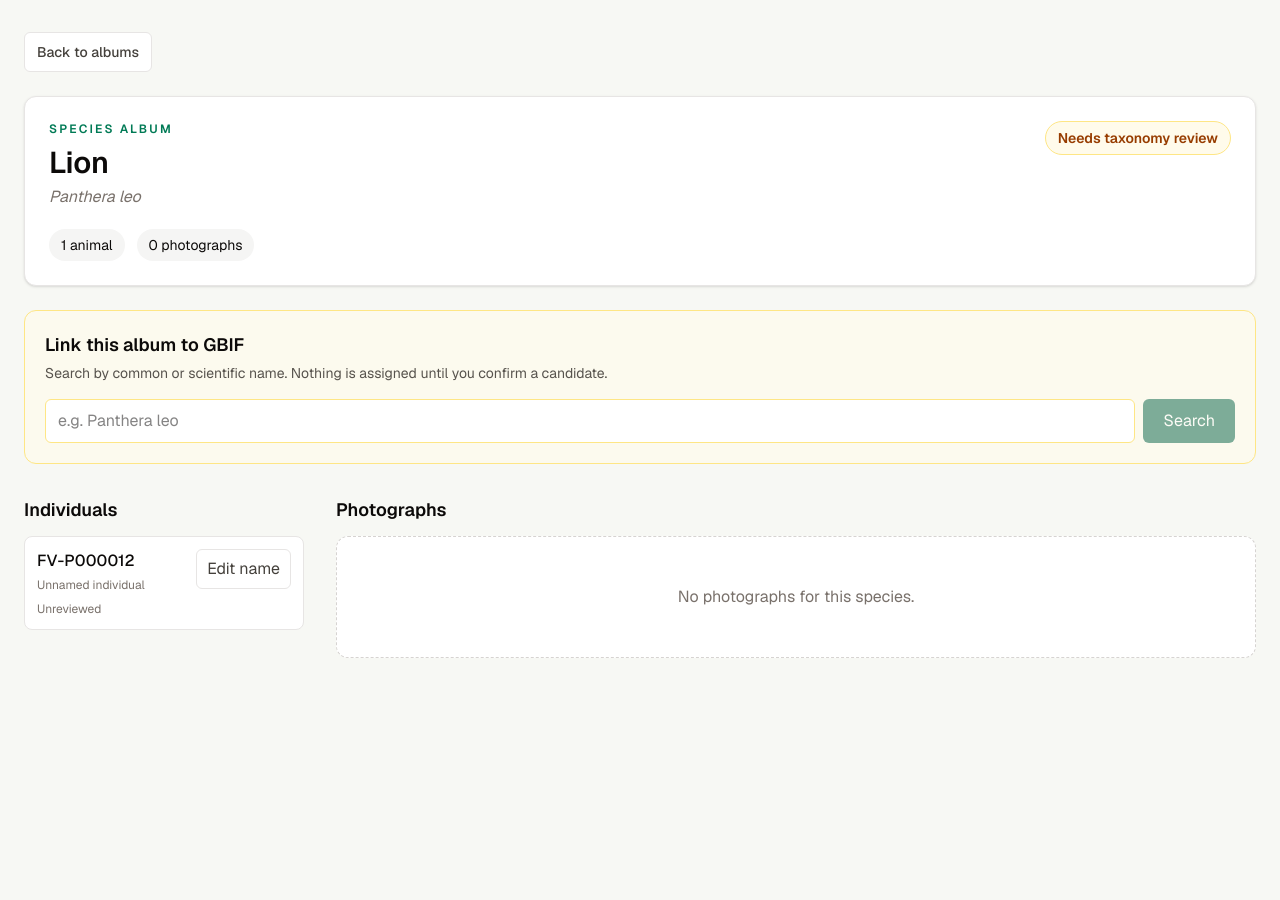
updates the animal name in the album without reloading album state
The width and height of the screenshot is (1280, 900).
Click the button with aria-label "Edit name for FV-P000012": [244, 569] box [196,549,291,589]
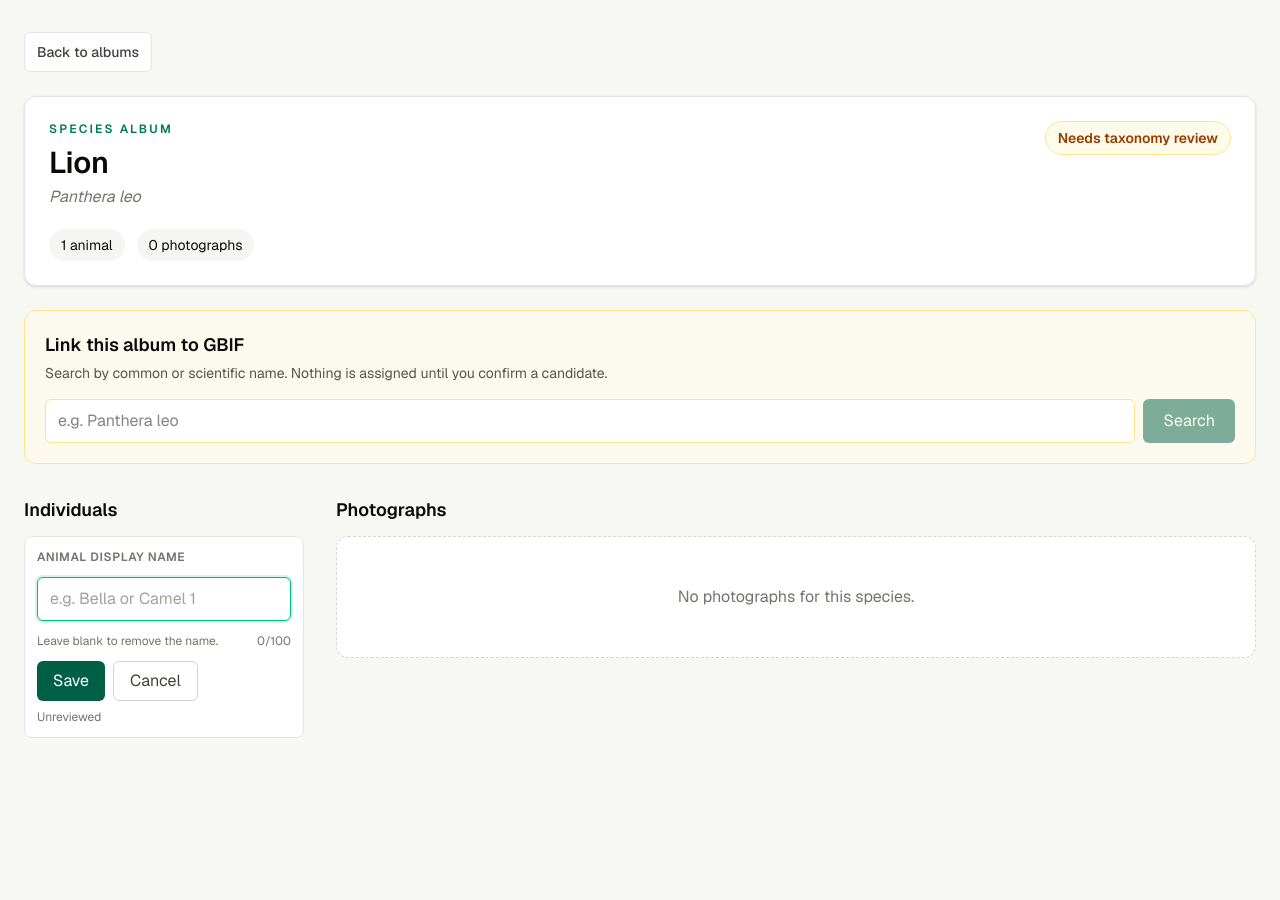
In the field labelled "Animal display name": [164, 599] box [37,577,291,621], type "Bella"
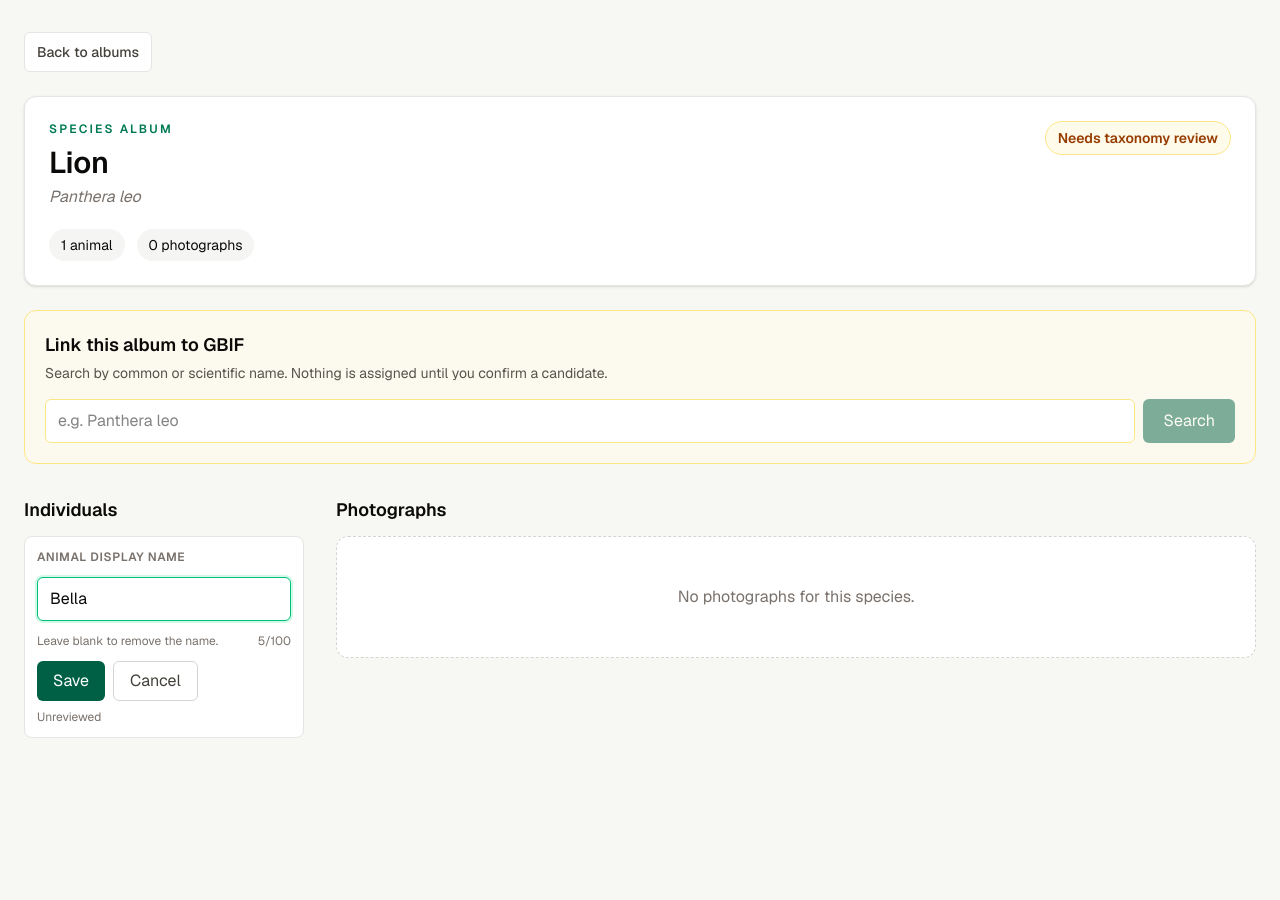
Click the button "Save": [71, 681] box [37,661,105,701]
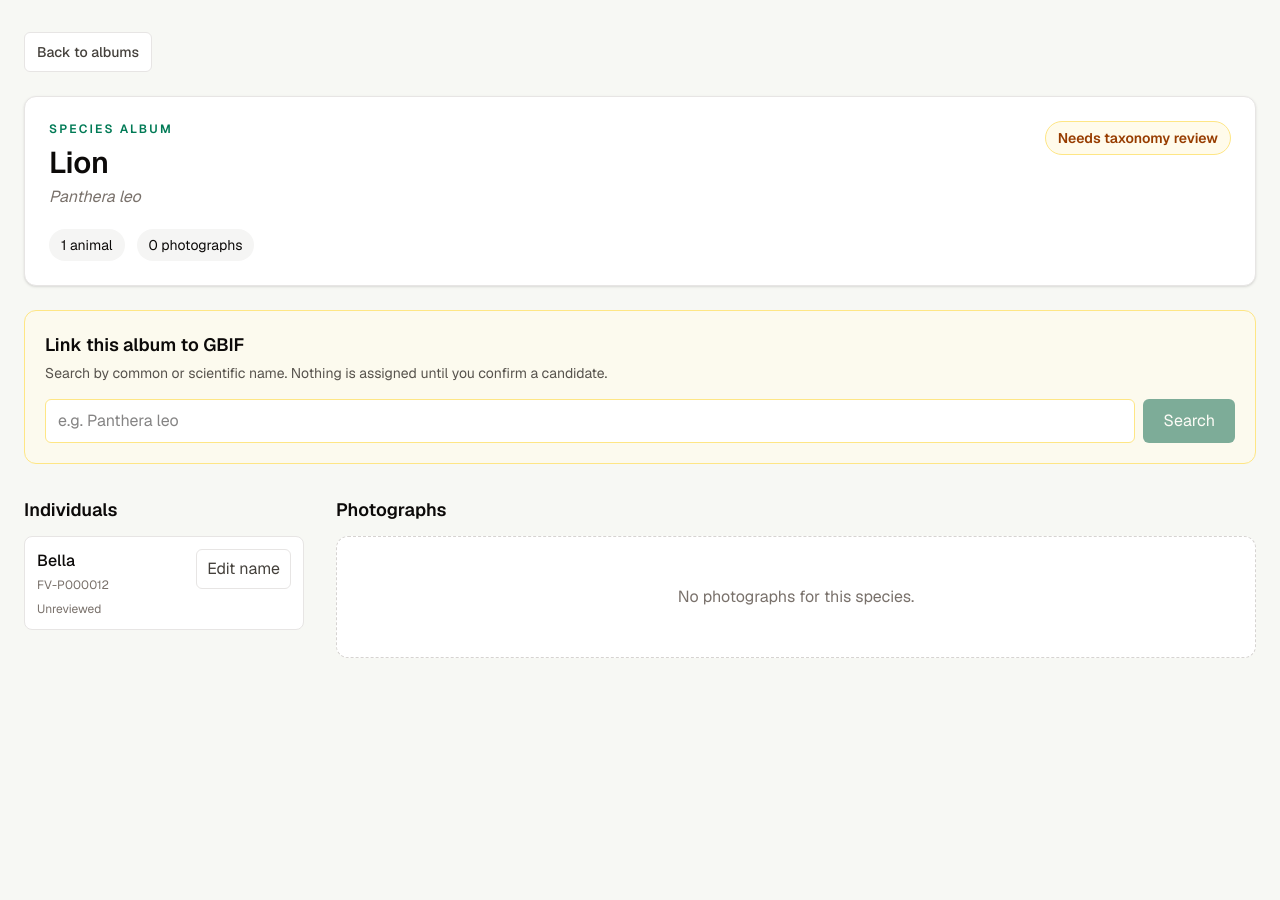
expect the text "Bella" is shown: met, box [37,550,75,571]
expect the text "FV-P000012" is shown: met, box [37,577,109,593]
